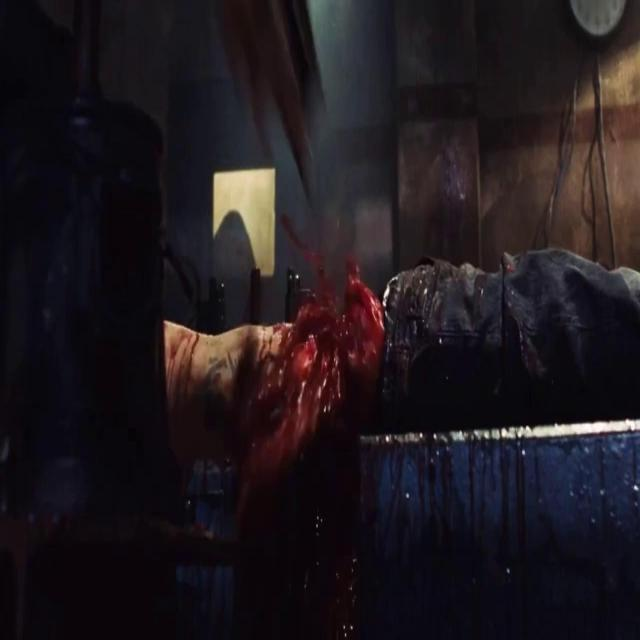flood: (401, 430, 615, 600), (253, 224, 384, 478), (210, 482, 373, 640), (161, 319, 202, 409)
